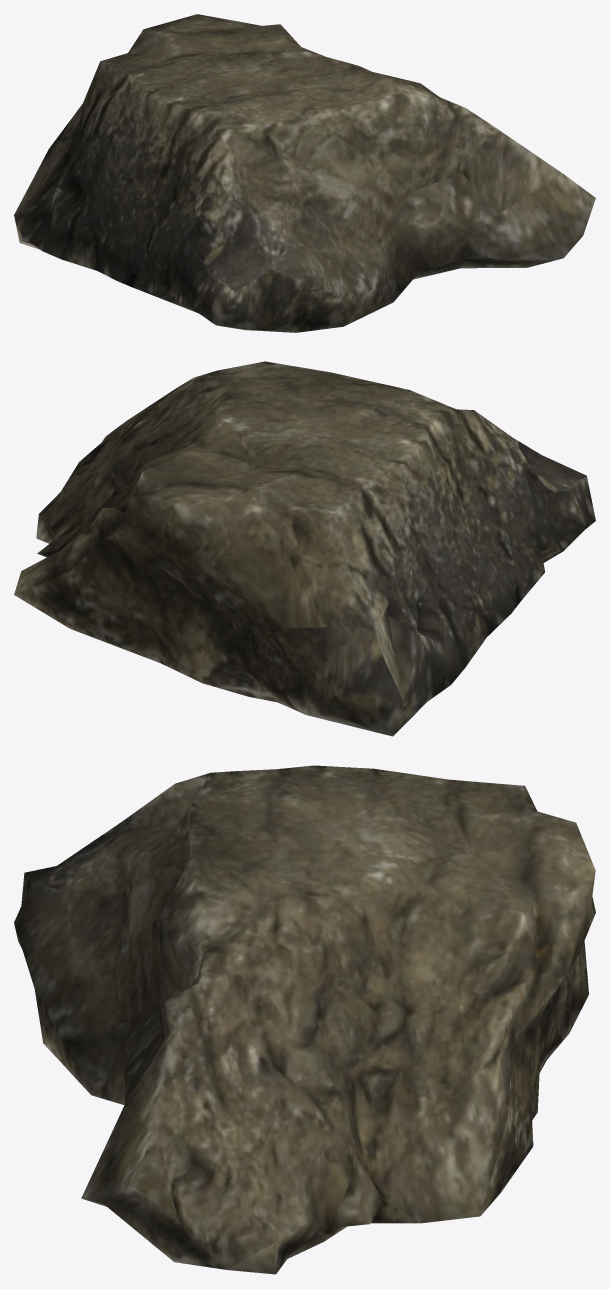
File: rock_01_lod2.glb
3 renders of one model, top to bottom at view 1: azimuth 30°, elevation 25°; view 2: azimuth 150°, elevation 25°; view 3: azimuth 270°, elevation 25°, orthographic. The views are drawn at different scales.
Parts seen in each view (by area): view 1: Rock_01_LOD2; view 2: Rock_01_LOD2; view 3: Rock_01_LOD2.
Part boxes in pixels (left/top/right/bottom): Rock_01_LOD2: left=14, top=14, right=595, bottom=332; Rock_01_LOD2: left=14, top=361, right=595, bottom=736; Rock_01_LOD2: left=14, top=765, right=595, bottom=1274.
Bounding box in the file's own units: 1.21 × 0.5178 × 0.9739.
Materials: 1 (1 with a texture image).
